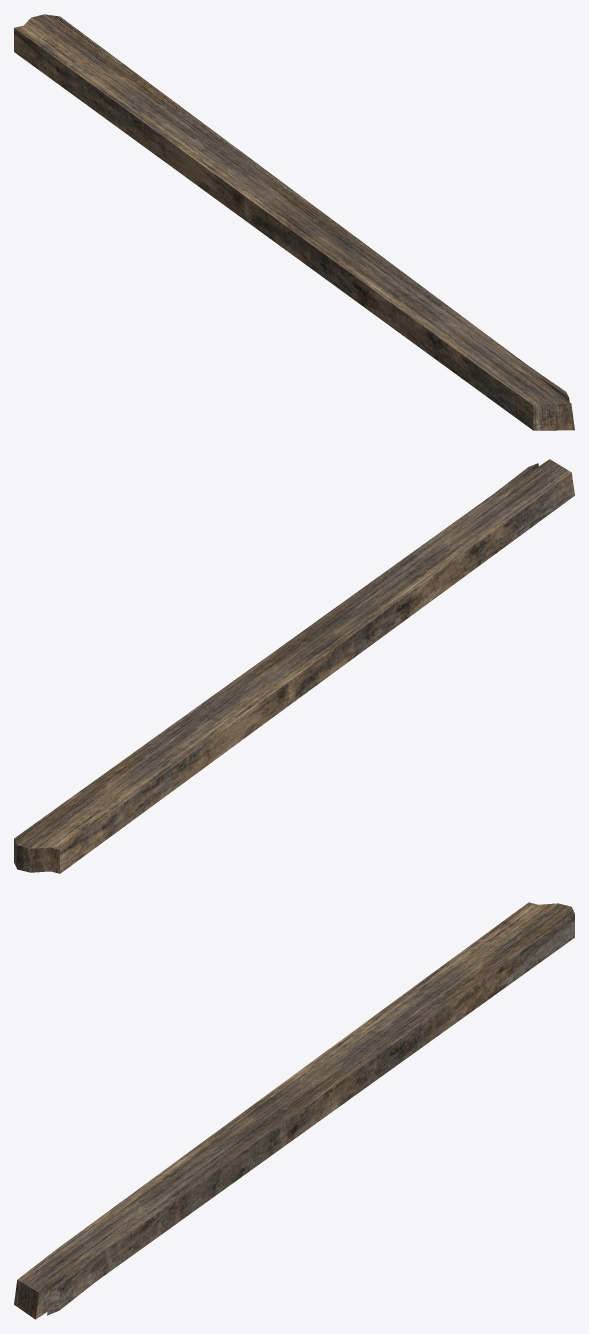
The model's file is wood-optimized.glb.
3 renders of one model, top to bottom at view 1: azimuth 30°, elevation 25°; view 2: azimuth 150°, elevation 25°; view 3: azimuth 330°, elevation 25°, orthographic.
Visible parts, largest first — view 1: WoodenPlank; view 2: WoodenPlank; view 3: WoodenPlank.
Part boxes in pixels (x1=…): WoodenPlank: x1=14, y1=14, x2=574, y2=430; WoodenPlank: x1=14, y1=459, x2=574, y2=873; WoodenPlank: x1=14, y1=902, x2=574, y2=1319.
Bounding box in the file's own units: 0.15 × 0.075 × 3.
1 material, 1 textured.
